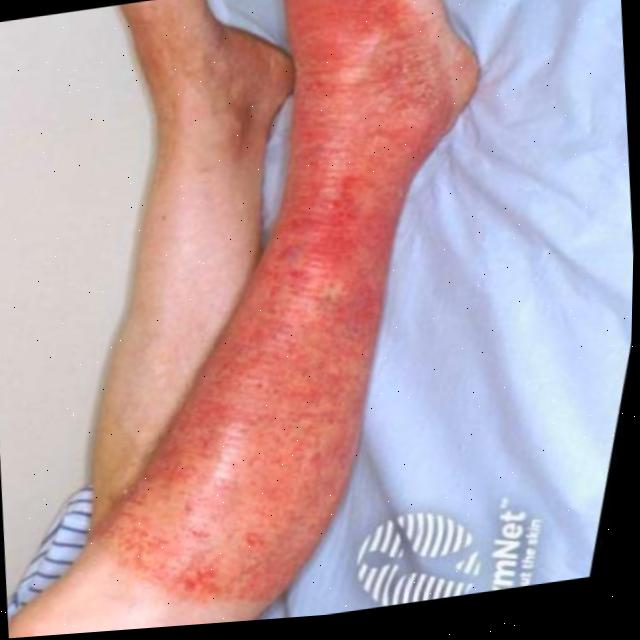Eczema: (148, 58, 460, 575)
